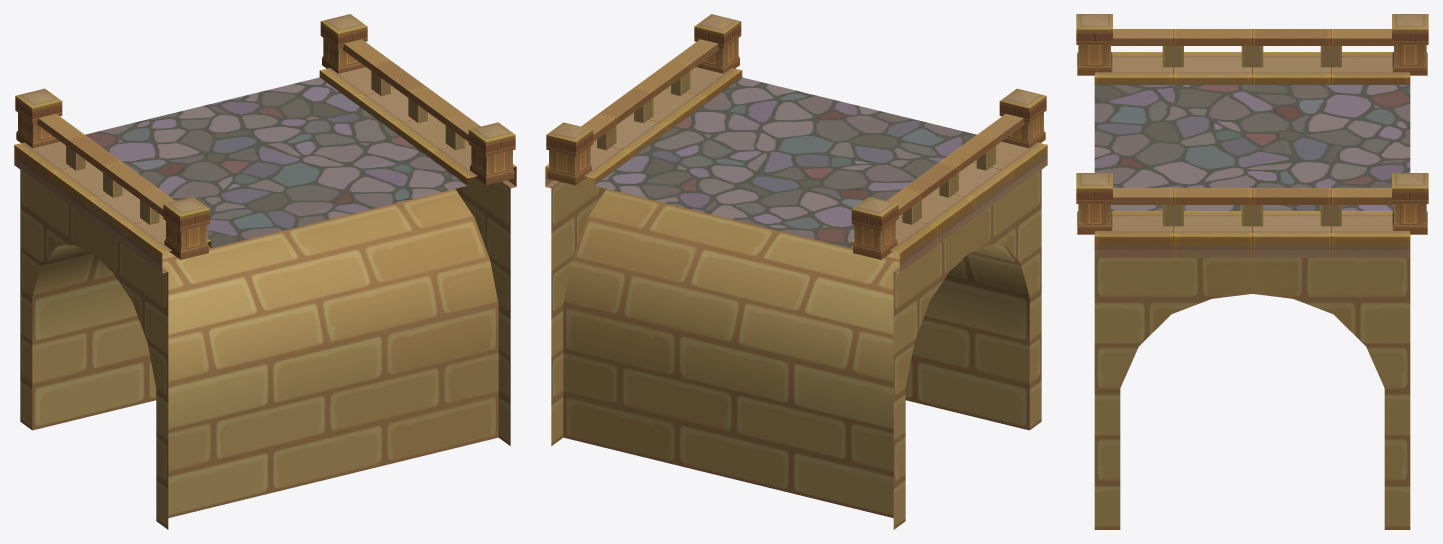
File: Bridge01_a01.FBX
The picture shows the model from 3 angles, left to right: view 1: azimuth 30°, elevation 25°; view 2: azimuth 150°, elevation 25°; view 3: azimuth 270°, elevation 25°; orthographic projection. The views are drawn at different scales.
Parts seen in each view (by area): view 1: Bridge01_a01; view 2: Bridge01_a01; view 3: Bridge01_a01.
Boxes of the visible parts, x1,y1,x2,y2 form: Bridge01_a01: (14, 14, 516, 529); Bridge01_a01: (545, 14, 1047, 529); Bridge01_a01: (1076, 14, 1428, 529).
Bounding box in the file's own units: 985 × 860 × 795.
